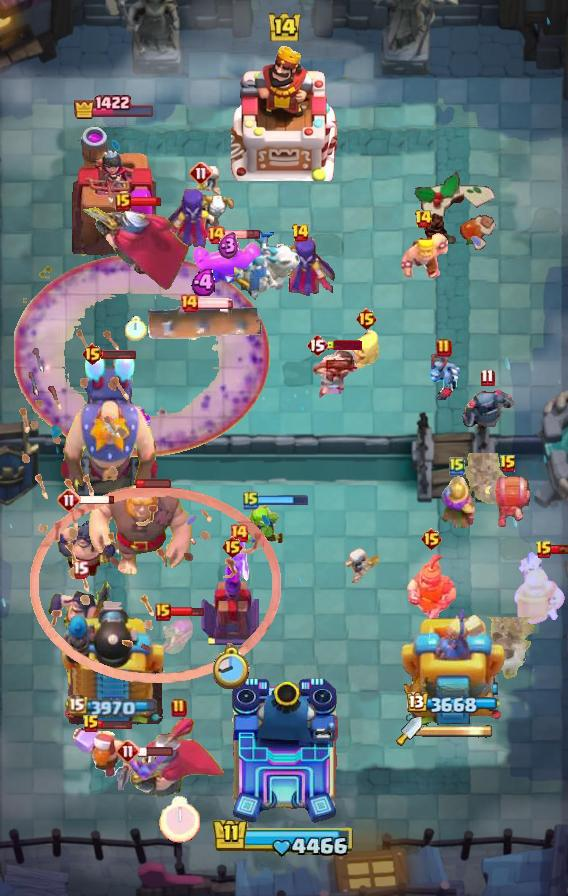archer: (156, 615, 194, 663)
bar: (257, 494, 309, 506), (169, 605, 205, 618), (197, 297, 235, 309), (138, 745, 174, 757), (101, 348, 137, 360), (79, 494, 116, 505), (224, 229, 261, 240), (136, 478, 172, 489), (98, 719, 133, 730), (128, 196, 162, 207), (326, 340, 362, 350), (551, 544, 568, 555)
bar-level: (116, 739, 140, 763), (57, 488, 81, 512), (189, 161, 213, 185), (221, 535, 244, 559), (420, 527, 443, 551), (81, 342, 104, 366), (355, 307, 378, 331), (306, 333, 328, 357), (229, 523, 249, 543), (179, 293, 199, 313), (206, 225, 226, 245), (291, 223, 310, 243), (414, 209, 433, 229), (82, 714, 100, 734), (535, 540, 553, 560), (499, 454, 517, 474), (72, 560, 89, 579), (171, 698, 187, 718), (243, 490, 259, 510), (449, 456, 465, 476), (436, 338, 452, 358), (155, 603, 171, 621), (115, 193, 131, 211), (480, 368, 495, 387)
barbarian: (391, 232, 455, 278)
bat-evolution: (121, 752, 169, 780)
cannoneer-tower: (58, 595, 170, 731)
clock: (159, 796, 200, 843), (213, 645, 251, 691), (125, 316, 147, 341)
dagger-duchess-tower: (401, 601, 505, 731)
dagger-duchess-tower-bar: (422, 724, 494, 738)
dirt: (485, 617, 539, 682), (459, 453, 521, 504)
elixir: (191, 269, 219, 296), (218, 232, 239, 260)
elixir-golem-mid: (192, 237, 264, 287)
executioner: (46, 578, 114, 654), (54, 501, 116, 579)
goblin: (237, 501, 285, 546)
heal-spirit: (349, 326, 383, 370)
king-tower: (228, 676, 340, 826), (231, 43, 337, 181)
king-tower-bar: (212, 817, 356, 859)
lumberjack: (72, 721, 136, 791)
mini-pekka: (459, 386, 515, 432)
minion: (422, 354, 466, 400)
musketeer: (439, 472, 475, 528)
princess: (310, 341, 358, 399)
queen-tower: (72, 122, 156, 256)
royal-recruit: (512, 549, 568, 629), (406, 555, 456, 619)
skeleton: (343, 548, 379, 584), (194, 166, 222, 198)
skeleton-evolution: (227, 539, 251, 583)
the-log: (144, 301, 266, 345)
tower-bar: (407, 692, 500, 716), (73, 94, 156, 120), (68, 695, 160, 718)
wall-breaker: (483, 473, 533, 529)
witch: (262, 237, 338, 299), (166, 189, 236, 251)
